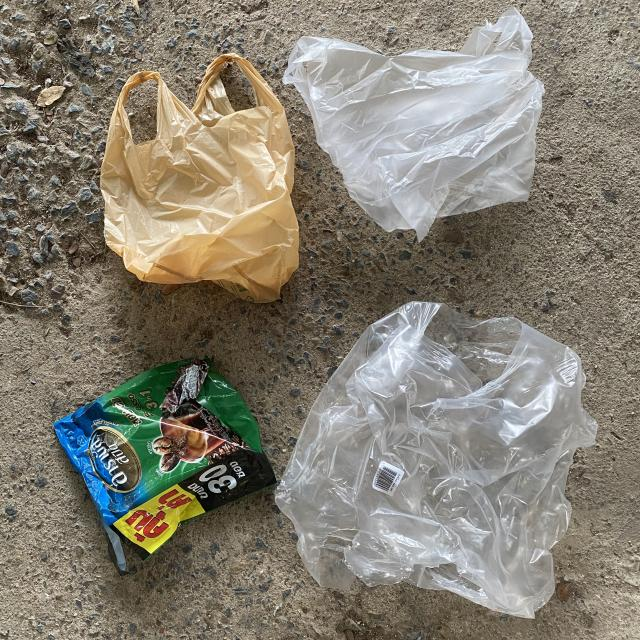Single-layer Plastic: (276, 302, 598, 618), (284, 9, 544, 240), (101, 54, 299, 302), (499, 160, 501, 166)
